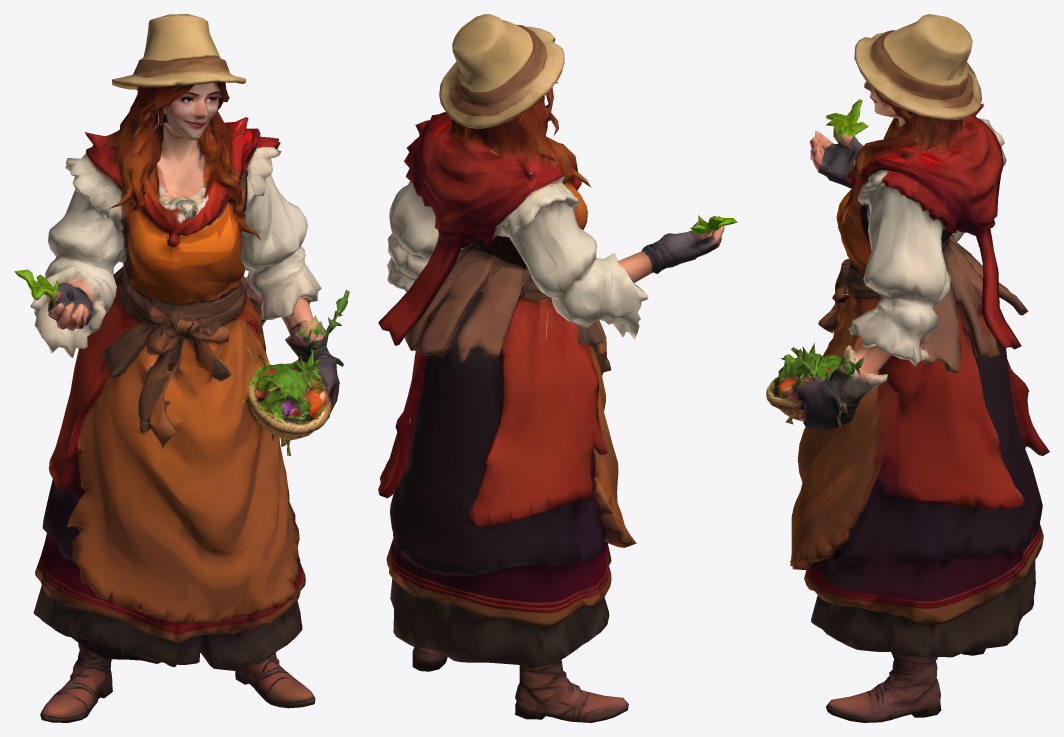
The model's file is support.glb.
The picture shows the model from 3 angles, left to right: view 1: azimuth 30°, elevation 25°; view 2: azimuth 150°, elevation 25°; view 3: azimuth 270°, elevation 25°; orthographic projection. The views are drawn at different scales.
Parts seen in each view (by area): view 1: Mesh_0; view 2: Mesh_0; view 3: Mesh_0.
Part boxes in pixels (x1,y1,x2,y2): Mesh_0: (14,14,349,722); Mesh_0: (378,14,737,722); Mesh_0: (766,14,1049,722).
Size of the model in its own units: 0.9936 by 1.91 by 0.7446.
1 material, 1 textured.
